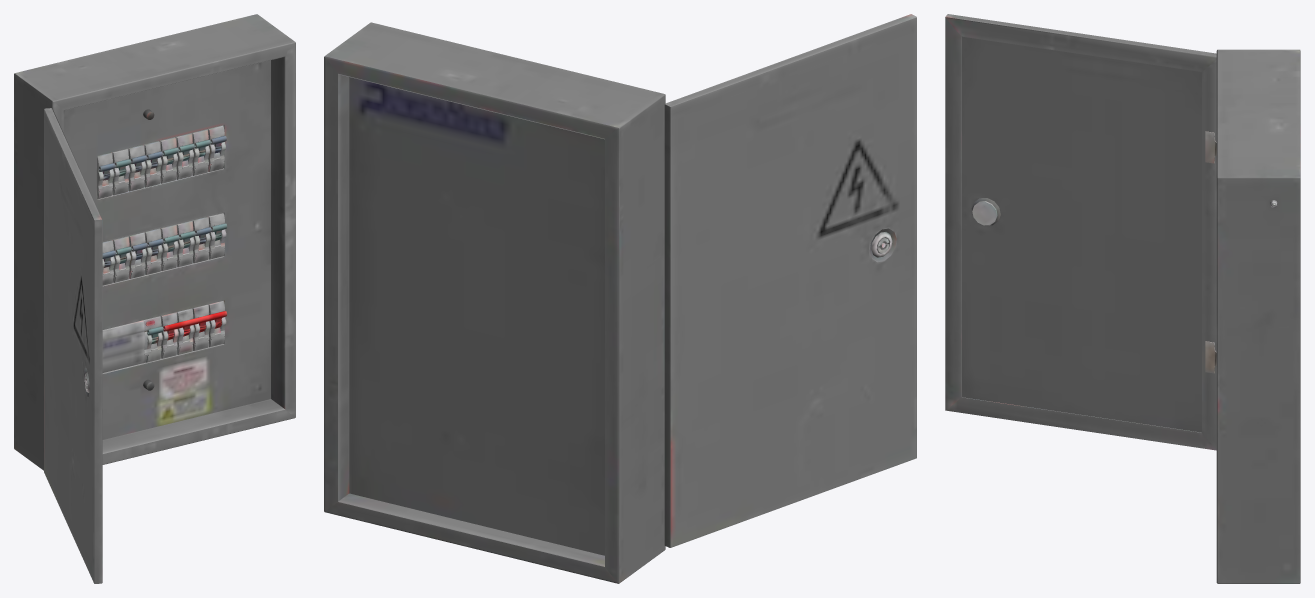
The model's file is power_box_01_lod1.glb.
3 views of the same model, side by side, from view 1: azimuth 30°, elevation 25°; view 2: azimuth 150°, elevation 25°; view 3: azimuth 270°, elevation 25° (orthographic). The views are drawn at different scales.
Visible parts, largest first — view 1: power_box_01_door; view 2: power_box_01_door; view 3: power_box_01_door.
Part boxes in pixels (x1=…): power_box_01_door: x1=14, y1=14, x2=295, y2=583; power_box_01_door: x1=324, y1=14, x2=916, y2=583; power_box_01_door: x1=945, y1=14, x2=1300, y2=583.
Size of the model in its own units: 0.461 by 0.5031 by 0.399.
1 material, 1 textured.
